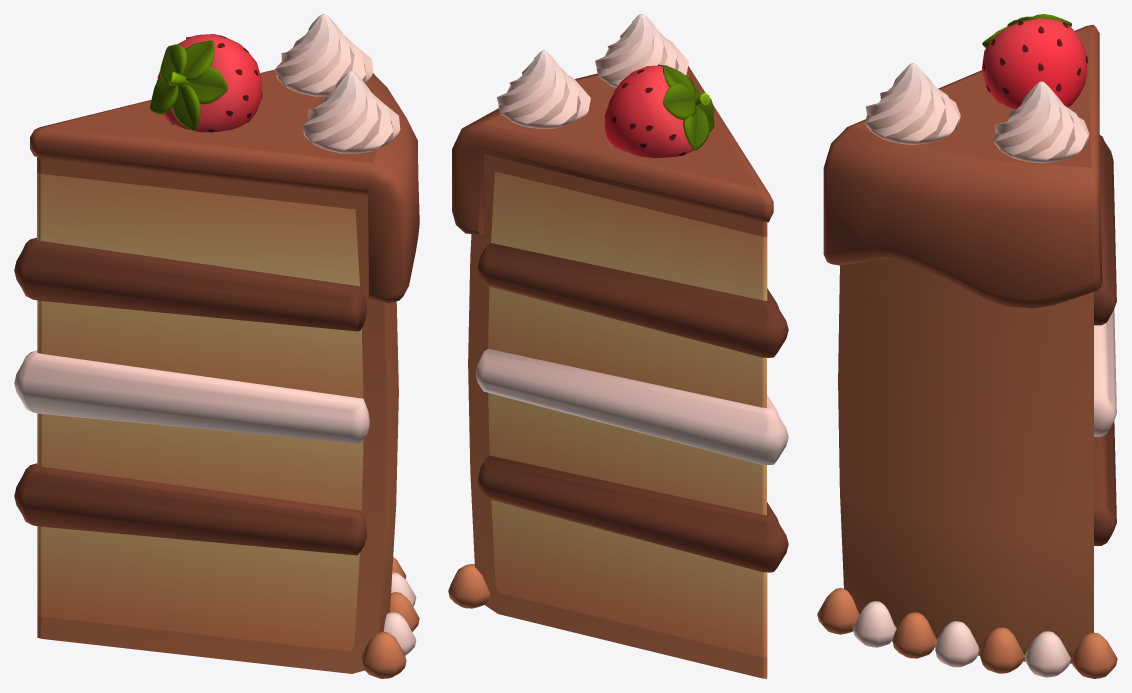
File: Cake_Chocolate_Slice_V2_01.fbx
3 renders of one model, left to right at view 1: azimuth 30°, elevation 25°; view 2: azimuth 150°, elevation 25°; view 3: azimuth 270°, elevation 25°, orthographic. The views are drawn at different scales.
Visible parts, largest first — view 1: Cake_Chocolate_Slice_V2_01; view 2: Cake_Chocolate_Slice_V2_01; view 3: Cake_Chocolate_Slice_V2_01.
Part boxes in pixels (<box>): Cake_Chocolate_Slice_V2_01: <box>14,14,419,678</box>; Cake_Chocolate_Slice_V2_01: <box>448,14,788,678</box>; Cake_Chocolate_Slice_V2_01: <box>817,14,1117,678</box>.
Bounding box in the file's own units: 34.39 × 54.94 × 25.84.
